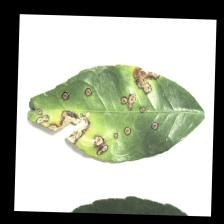canker: (28, 72, 160, 159)
